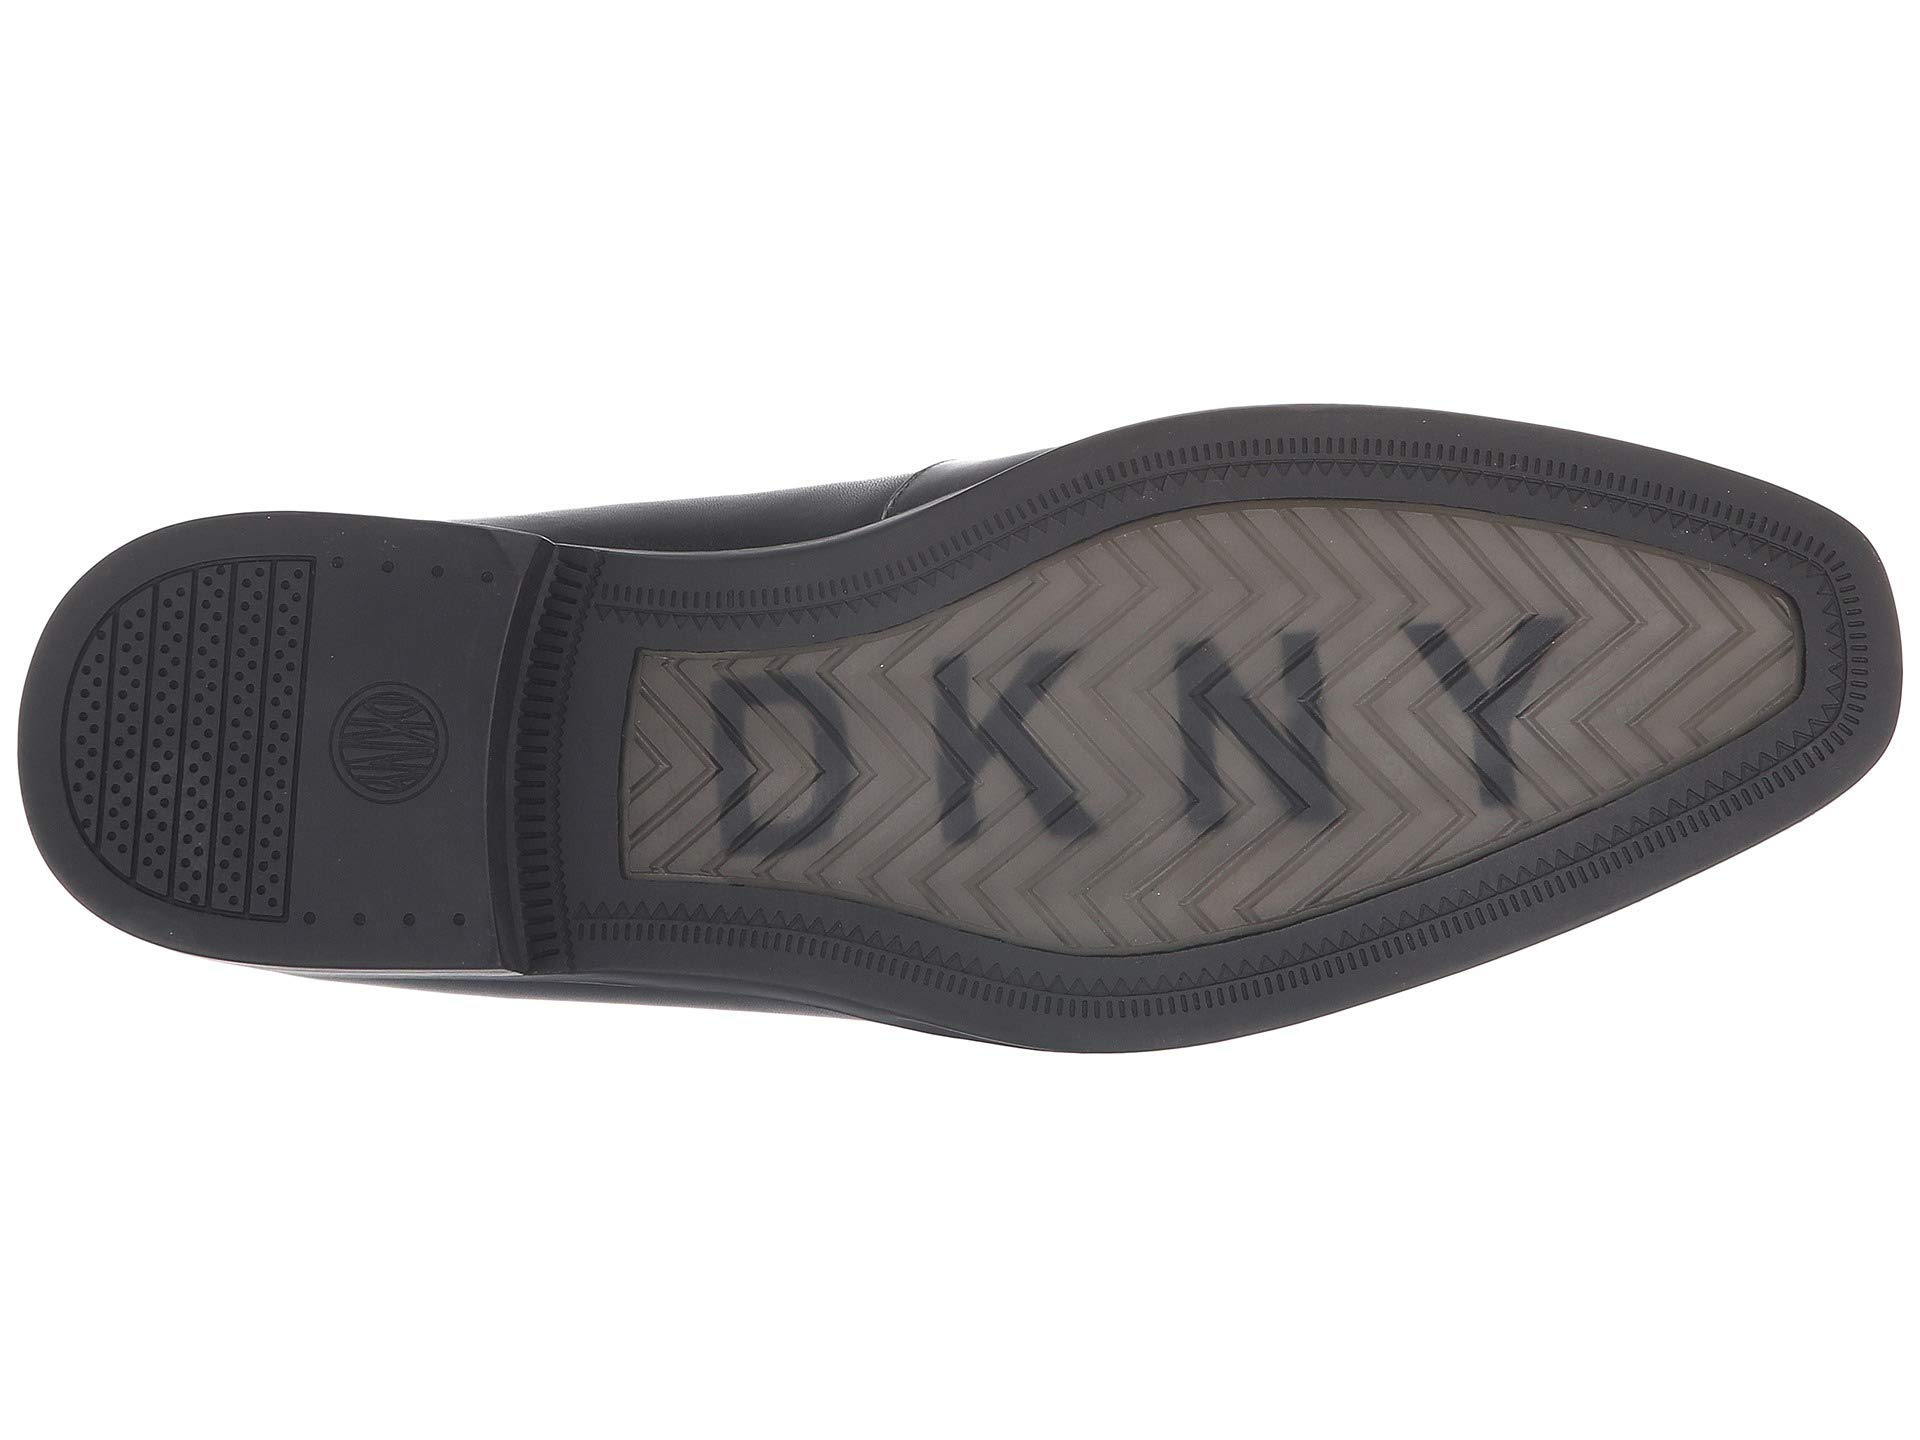chevron: (661, 585, 1757, 889)
circle: (98, 546, 336, 917), (339, 663, 478, 826), (331, 542, 513, 601), (287, 898, 485, 942)
quad: (98, 546, 336, 917), (807, 920, 1332, 1012), (1098, 445, 1665, 517), (1770, 535, 1885, 750)
text: (661, 585, 1757, 889)
triangle: (807, 920, 1332, 1012), (1098, 445, 1665, 517), (1770, 535, 1885, 750)
